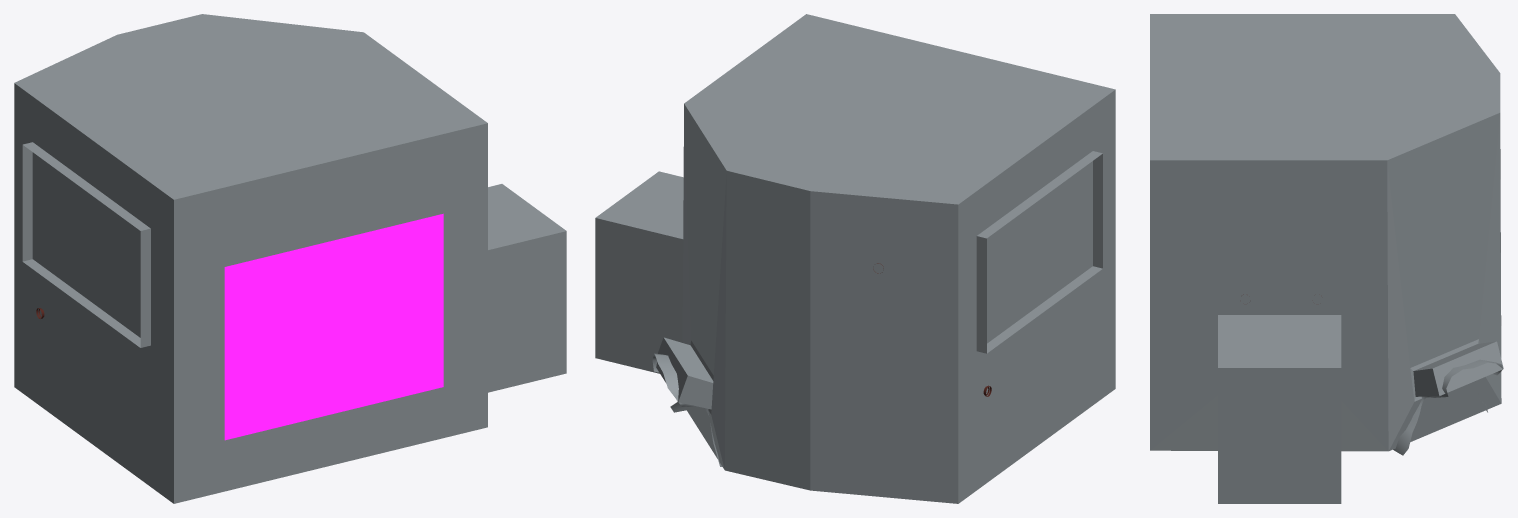
Rendered from INB306 scale v1.25.fbx.
3 views of the same model, side by side, from view 1: azimuth 30°, elevation 25°; view 2: azimuth 150°, elevation 25°; view 3: azimuth 270°, elevation 25° (orthographic). The views are drawn at different scales.
Parts seen in each view (by area): view 1: Room, Minimap, Main Display; view 2: Room, Main Display, Coal Pile; view 3: Room, Coal Pile.
Boxes of the visible parts, box(x1,y1,x2,y2) form: Room: box(14, 14, 566, 503); Minimap: box(224, 213, 443, 440); Main Display: box(22, 142, 150, 347); Room: box(595, 14, 1115, 503); Main Display: box(976, 151, 1102, 353); Coal Pile: box(652, 353, 722, 466); Room: box(1150, 14, 1503, 503); Coal Pile: box(1393, 359, 1502, 455).
Size of the model in its own units: 327 by 221 by 243.
